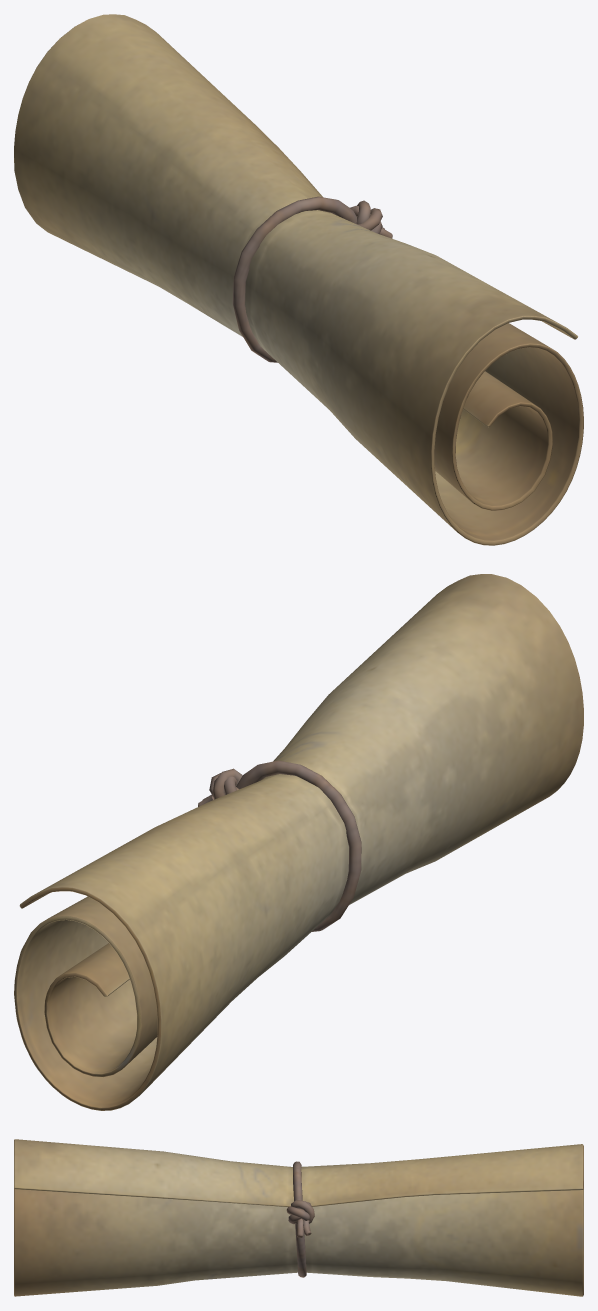
File: SM_Prop_Paper_A.fbx
The picture shows the model from 3 angles, top to bottom: view 1: azimuth 30°, elevation 25°; view 2: azimuth 150°, elevation 25°; view 3: azimuth 270°, elevation 25°; orthographic projection. The views are drawn at different scales.
Visible parts, largest first — view 1: SM_Prop_Paper_A_LOD0; view 2: SM_Prop_Paper_A_LOD0; view 3: SM_Prop_Paper_A_LOD0.
Part boxes in pixels (<box>): SM_Prop_Paper_A_LOD0: <box>14,14,583,545</box>; SM_Prop_Paper_A_LOD0: <box>14,574,583,1110</box>; SM_Prop_Paper_A_LOD0: <box>14,1139,583,1296</box>.
Size of the model in its own units: 4.68 by 19.81 by 5.82.
Materials: 1 (1 with a texture image).
